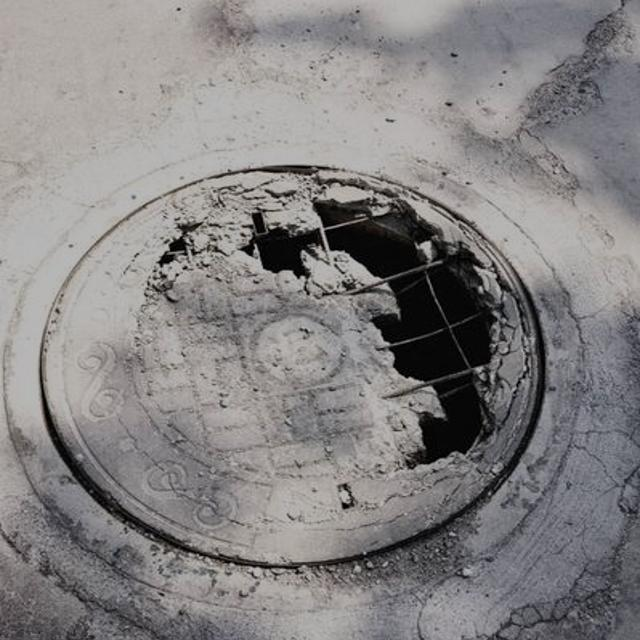broke: (0, 121, 640, 640)
